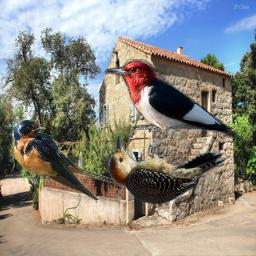Swallow: (12, 118, 120, 200)
Woodpecker: (102, 59, 245, 145), (99, 131, 232, 206)
